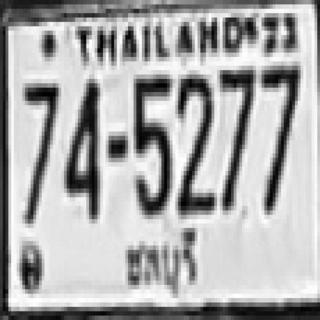N02: (175, 72, 212, 213)
N04: (61, 77, 97, 217)
N05: (131, 72, 170, 213)
N07: (259, 61, 298, 210), (217, 64, 253, 208), (22, 81, 58, 221), (259, 61, 298, 167), (22, 79, 58, 180)
P13: (118, 228, 204, 298)
